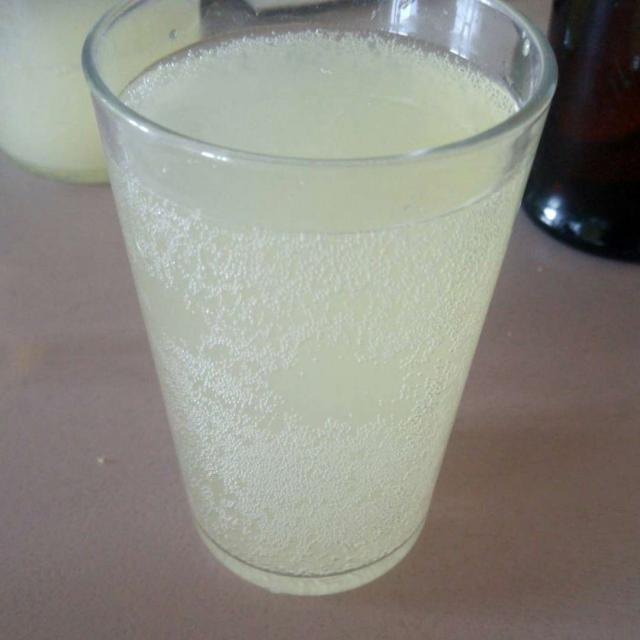kefir-drink: (115, 73, 521, 568)
